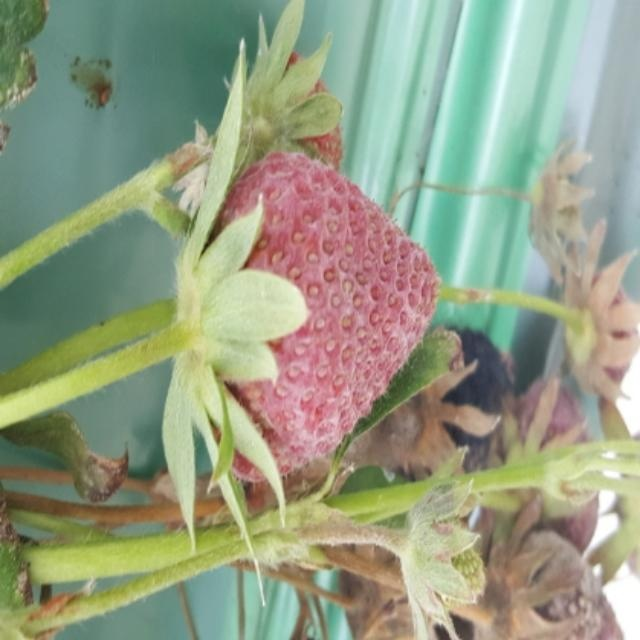Powdery Mildew Fruit: (177, 148, 444, 485)
